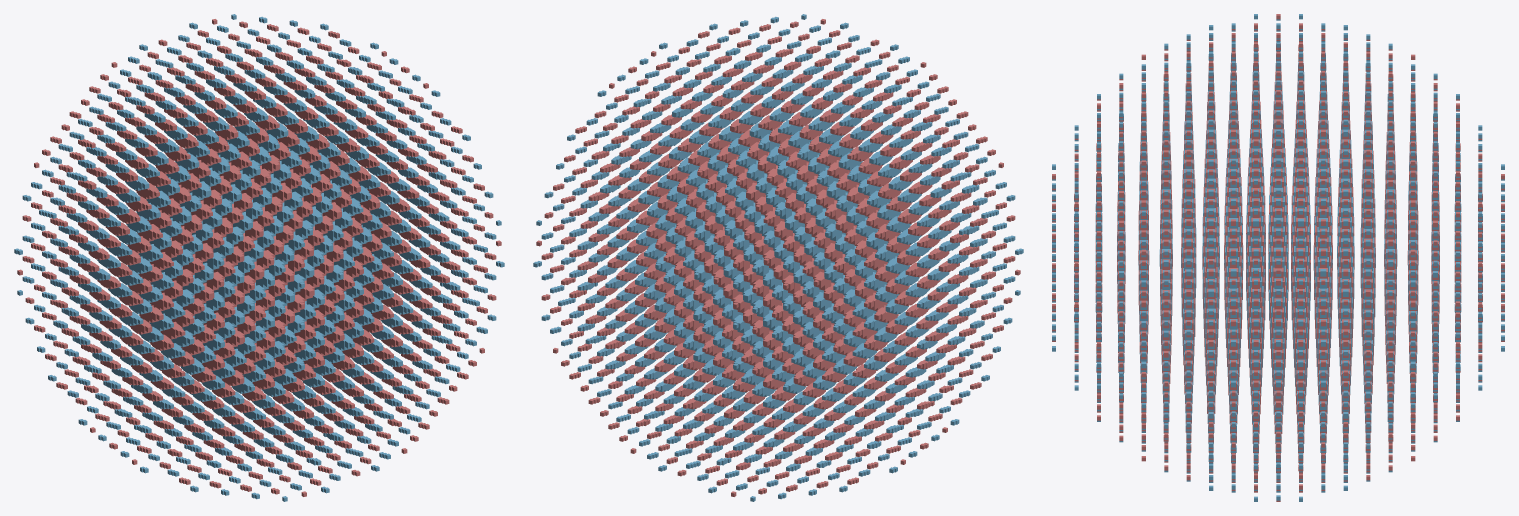
File: explorable-lattice.glb
The picture shows the model from 3 angles, left to right: view 1: azimuth 30°, elevation 25°; view 2: azimuth 150°, elevation 25°; view 3: azimuth 270°, elevation 25°; orthographic projection.
Visible parts, largest first — view 1: geometry_0; view 2: geometry_0; view 3: geometry_0.
Part boxes in pixels (box(x1,y1,x2,y2)): geometry_0: box(14, 14, 504, 501); geometry_0: box(533, 14, 1023, 501); geometry_0: box(1052, 14, 1504, 501).
Size of the model in its own units: 20.18 by 20.18 by 20.18.
